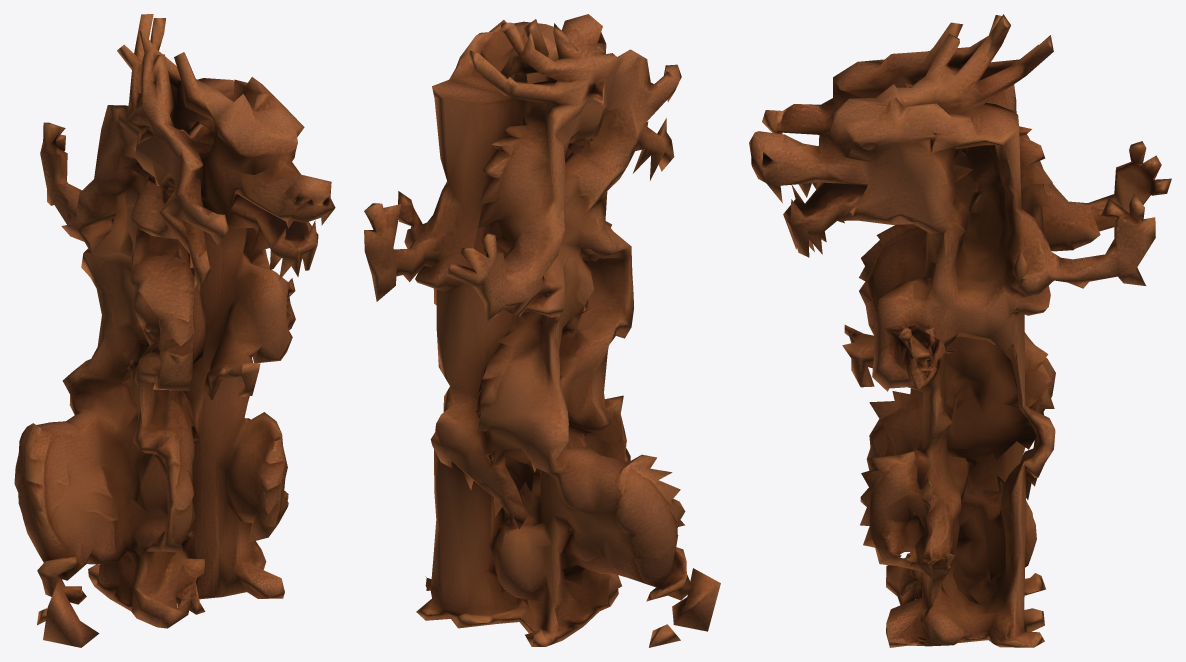
Rendered from panlong.glb.
3 views of the same model, side by side, from view 1: azimuth 30°, elevation 25°; view 2: azimuth 150°, elevation 25°; view 3: azimuth 270°, elevation 25° (orthographic). The views are drawn at different scales.
Visible parts, largest first — view 1: node_90515088-fb7b-4ea3-95ac-691cc76a5460; view 2: node_90515088-fb7b-4ea3-95ac-691cc76a5460; view 3: node_90515088-fb7b-4ea3-95ac-691cc76a5460.
Part boxes in pixels (bbox=[...]): node_90515088-fb7b-4ea3-95ac-691cc76a5460: bbox=[14, 14, 335, 647]; node_90515088-fb7b-4ea3-95ac-691cc76a5460: bbox=[364, 14, 720, 647]; node_90515088-fb7b-4ea3-95ac-691cc76a5460: bbox=[749, 14, 1171, 647].
Size of the model in its own units: 0.4669 by 1 by 0.6438.
1 material, 1 textured.
